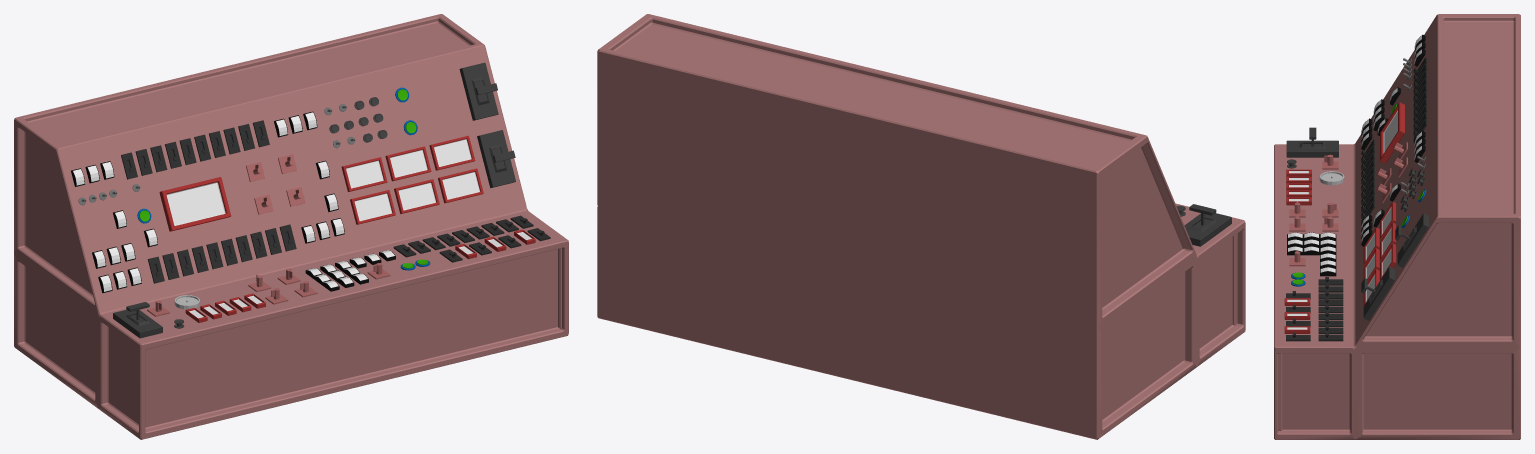
The model's file is console_07.fbx.
3 renders of one model, left to right at view 1: azimuth 30°, elevation 25°; view 2: azimuth 150°, elevation 25°; view 3: azimuth 270°, elevation 25°, orthographic. The views are drawn at different scales.
Visible parts, largest first — view 1: pCube1, display_01:pCube1, pCube89, pCube88, pCube85, pCube82, pCube83, pCube86, pCube87, pCube84, lever_01:pCube1; view 2: pCube1, lever_01:pCube1; view 3: pCube1, lever_01:pCube1, display_01:pCube1, pCube88, pCube89, pCube83, pCube82, pCube85, pCube86, pCube84, display_02:pCylinder1, pCube87.
Boxes of the visible parts, box(x1,y1,x2,y2) form: pCube1: box(14, 14, 568, 439); display_01:pCube1: box(159, 177, 231, 231); pCube89: box(459, 62, 498, 120); pCube88: box(477, 130, 515, 188); pCube85: box(385, 146, 431, 181); pCube82: box(341, 157, 387, 191); pCube83: box(350, 190, 395, 224); pCube86: box(429, 135, 475, 170); pCube87: box(438, 168, 483, 203); pCube84: box(394, 179, 439, 213); lever_01:pCube1: box(113, 302, 162, 338); pCube1: box(597, 14, 1245, 439); lever_01:pCube1: box(1184, 204, 1231, 246); pCube1: box(1274, 14, 1520, 439); lever_01:pCube1: box(1286, 127, 1338, 157); display_01:pCube1: box(1380, 102, 1404, 163); pCube88: box(1361, 266, 1394, 320); pCube89: box(1395, 213, 1428, 267); pCube83: box(1363, 227, 1379, 265); pCube82: box(1380, 202, 1396, 239); pCube85: box(1380, 222, 1396, 260); pCube86: box(1380, 243, 1396, 280); pCube84: box(1363, 248, 1379, 282); display_02:pCylinder1: box(1319, 171, 1344, 185); pCube87: box(1363, 269, 1379, 306).
Bounding box in the file's own units: 293 × 150 × 150.
